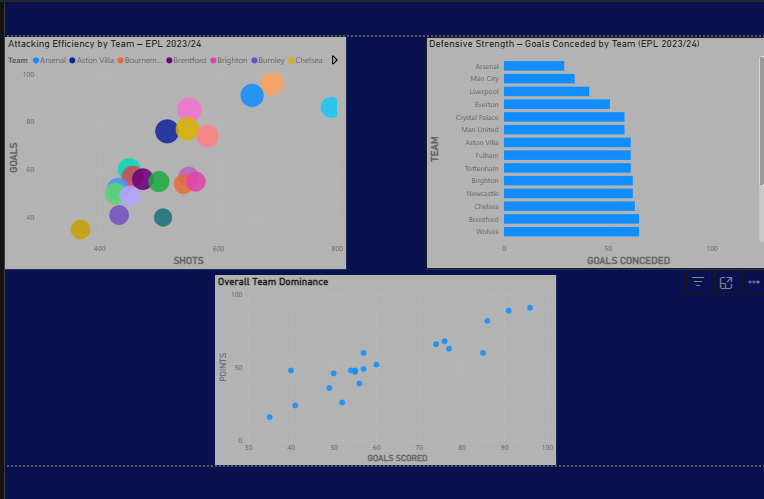

The page's visual inventory and layout, read from the dashboard file:
{"tool":"powerbi","page":{"name":"Page 2","canvas":[1280,720],"ordinal":1},"visuals":[{"type":"scatterChart","title":"Attacking Efficiency by Team – EPL 2023/24","fields":{"X":["Sum(insight_01_attacking_efficiency.Shots)"],"Y":["insight_01_attacking_efficiency.GoalsFor"],"Size":["Sum(insight_01_attacking_efficiency.GoalConversion)"],"Series":["insight_01_attacking_efficiency.Team"]},"box":[0,0,572.8,389.7],"z":0},{"type":"clusteredBarChart","title":"Defensive Strength – Goals Conceded by Team (EPL 2023/24)","fields":{"Category":["insight_02_defensive_efficiency.Team"],"Y":["Sum(insight_02_defensive_efficiency.GoalsAgainst)"]},"box":[707.2,0,572.8,389.7],"z":1000},{"type":"scatterChart","title":"Overall Team Dominance","fields":{"Category":["insight_03_overperformers.Team"],"X":["Sum(insight_03_overperformers.GoalsFor)"],"Y":["Sum(insight_03_overperformers.Points)"]},"box":[352.8,399.8,572.8,320.8],"z":1001}]}

Visuals, with their boxes in screenshot pixels (x1, y1, x2, y2):
"Attacking Efficiency by Team – EPL 2023/24" scatterChart: 8/36/345/265
"Defensive Strength – Goals Conceded by Team (EPL 2023/24)" clusteredBarChart: 424/36/761/265
"Overall Team Dominance" scatterChart: 216/271/553/460
